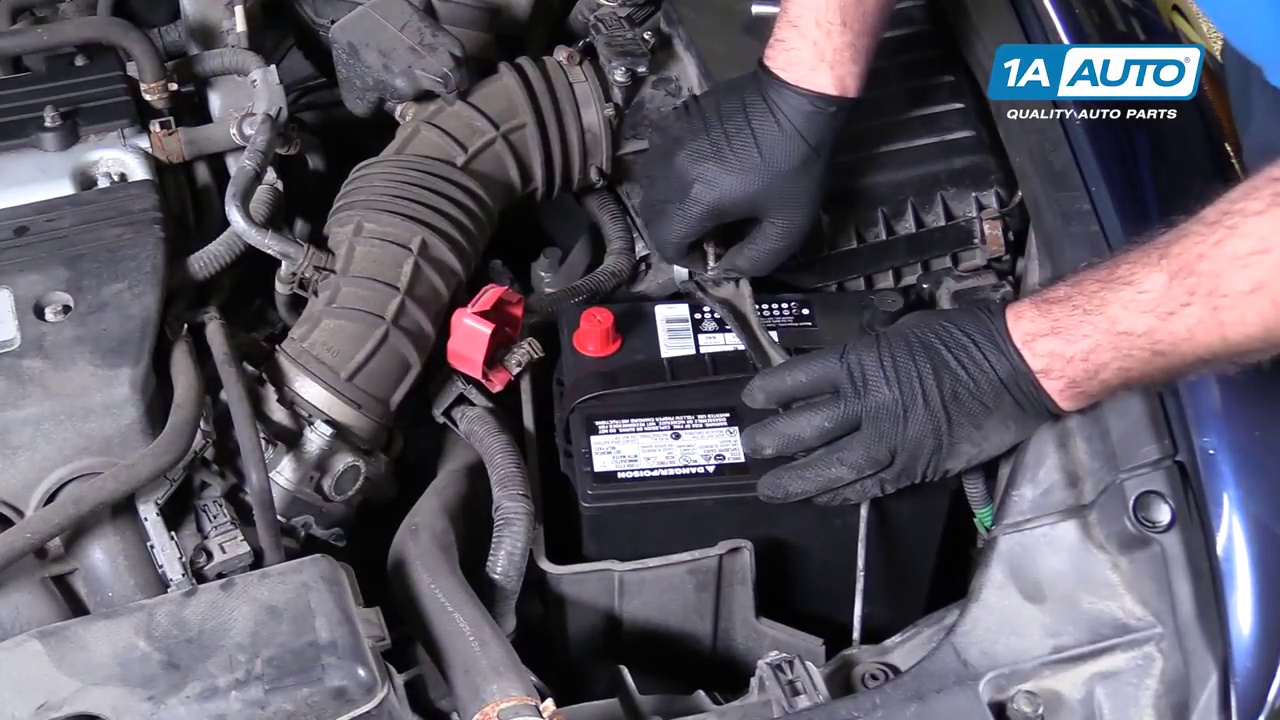battery: (561, 280, 937, 485)
pos_disconnected: (436, 268, 631, 390)
